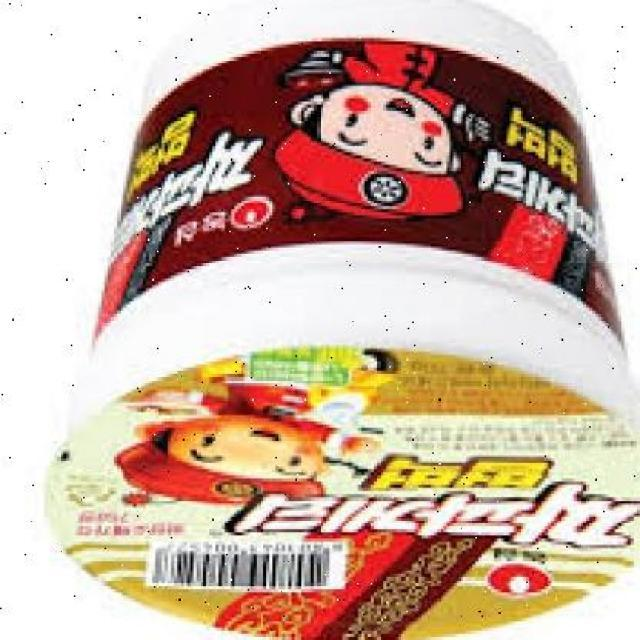Miscellaneous: (35, 17, 640, 640)
